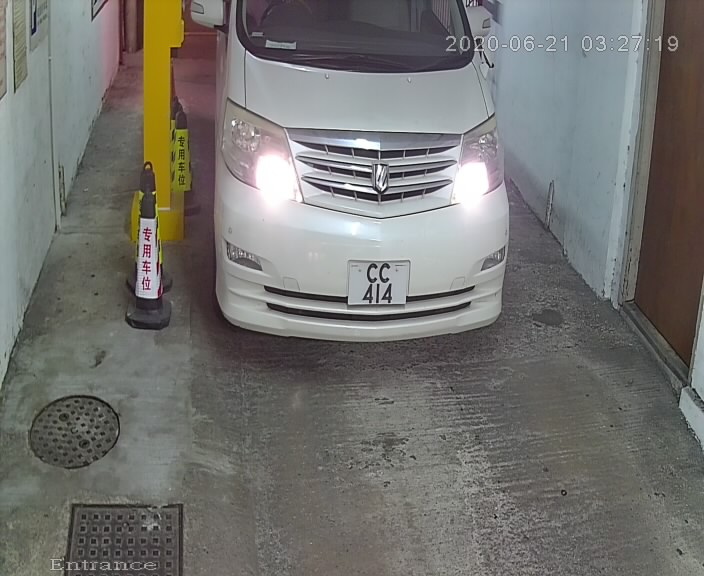privatecar: (207, 1, 529, 363)
